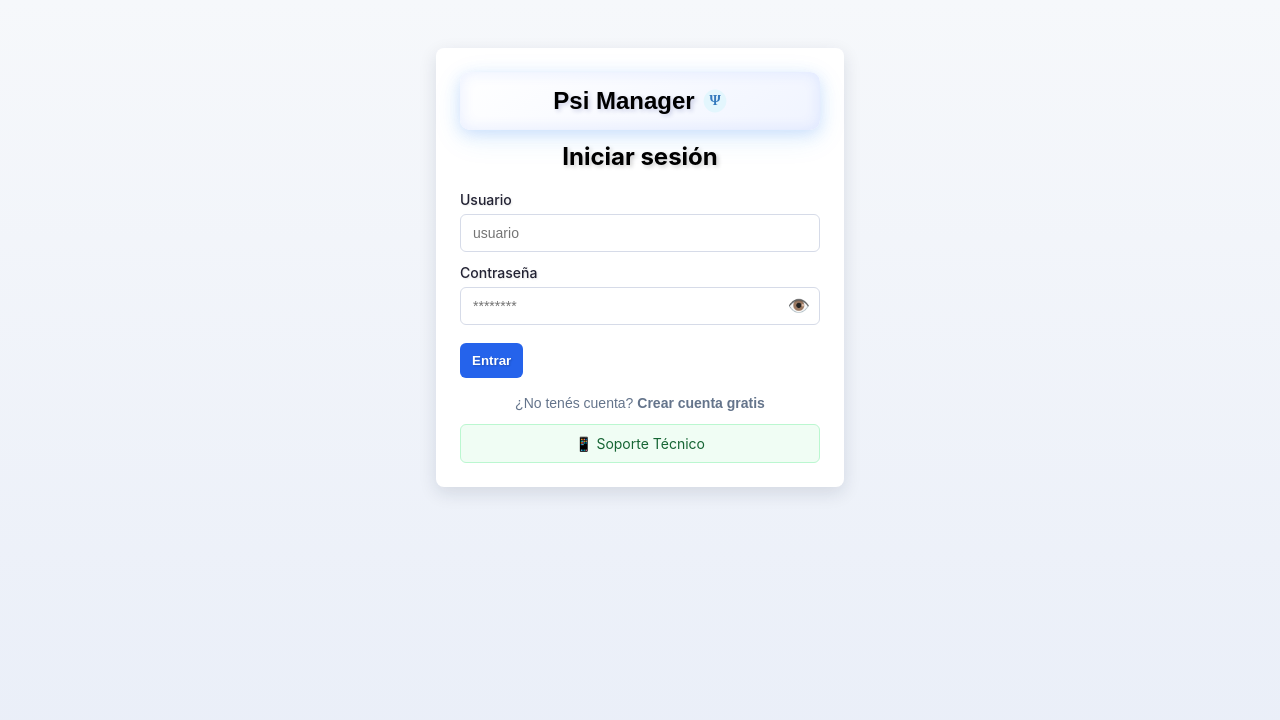
Scenario: Login component › shows error when submitting empty fields
What coordinates should you click on to do the following:
click the button "Entrar"
I would click on:
 (492, 360)
Its box is [460,343,523,378].
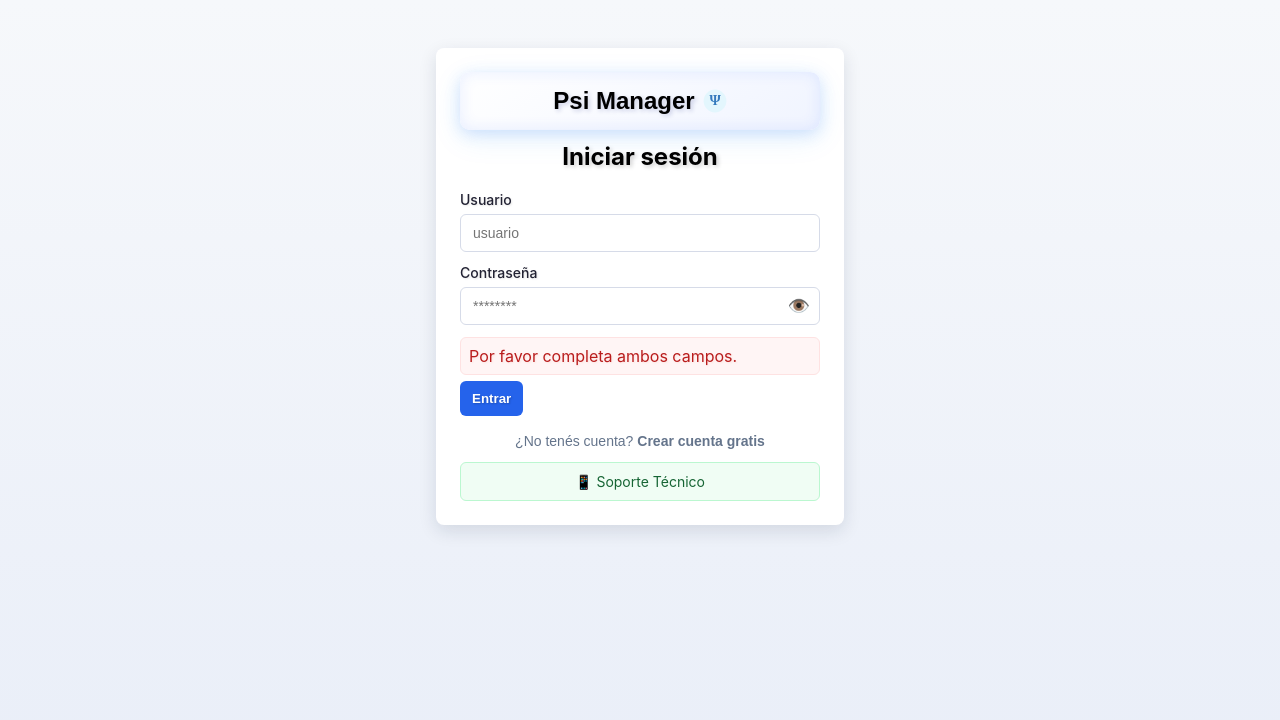
expect the text "Por favor completa ambos campos." is shown: met, box [460,337,820,375]
